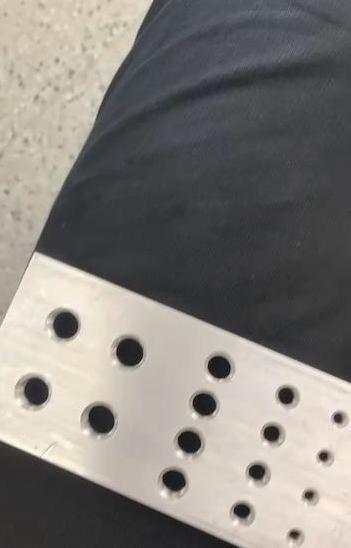hole: (76, 402, 118, 443), (12, 370, 52, 412), (44, 302, 84, 341), (108, 334, 147, 372), (157, 464, 194, 500), (171, 426, 207, 462), (202, 349, 237, 384), (188, 388, 221, 420), (256, 420, 287, 450), (243, 457, 272, 489), (271, 382, 300, 412), (228, 498, 258, 526), (300, 485, 322, 508), (313, 447, 334, 470), (328, 404, 349, 426), (284, 527, 304, 548)
